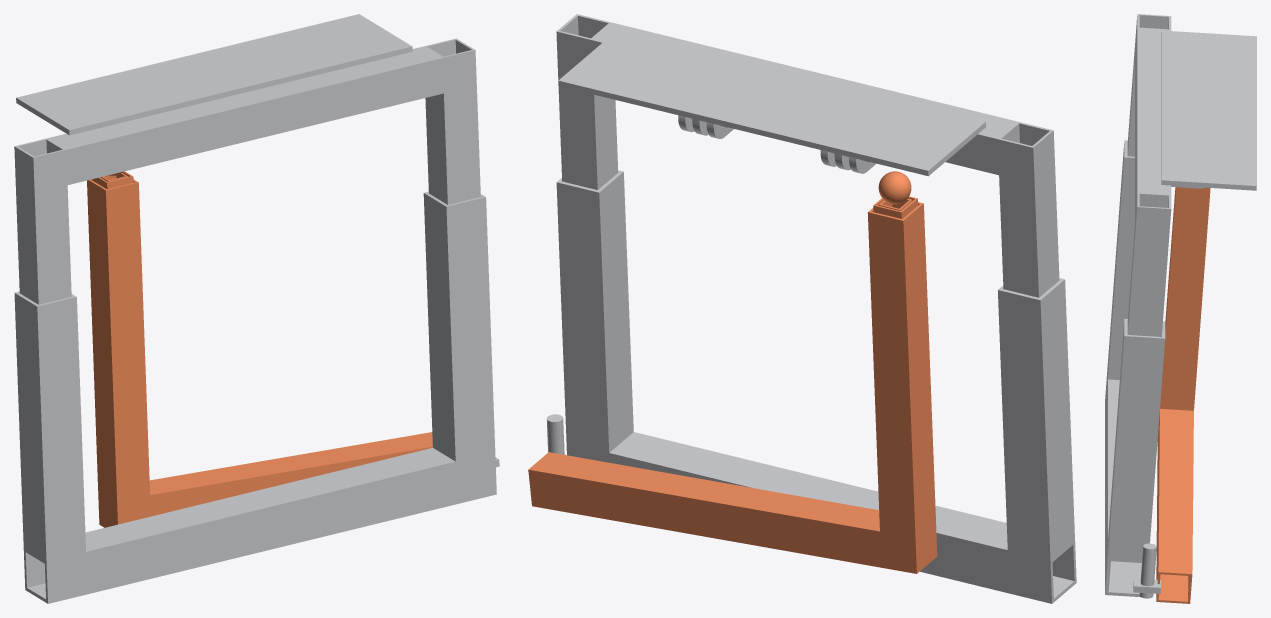
The model's file is center_stand_stowed.glb.
The picture shows the model from 3 angles, left to right: view 1: azimuth 30°, elevation 25°; view 2: azimuth 150°, elevation 25°; view 3: azimuth 270°, elevation 25°; orthographic projection. The views are drawn at different scales.
Visible parts, largest first — view 1: frame, handle; view 2: frame, handle; view 3: frame, handle.
Boxes of the visible parts, left/top/right/bottom form: frame: left=14, top=14, right=499, bottom=603; handle: left=87, top=171, right=432, bottom=527; frame: left=546, top=14, right=1076, bottom=603; handle: left=528, top=171, right=937, bottom=573; frame: left=1105, top=14, right=1256, bottom=598; handle: left=1156, top=187, right=1210, bottom=603.
Bounding box in the file's own units: 0.4496 × 0.4078 × 0.1413.
